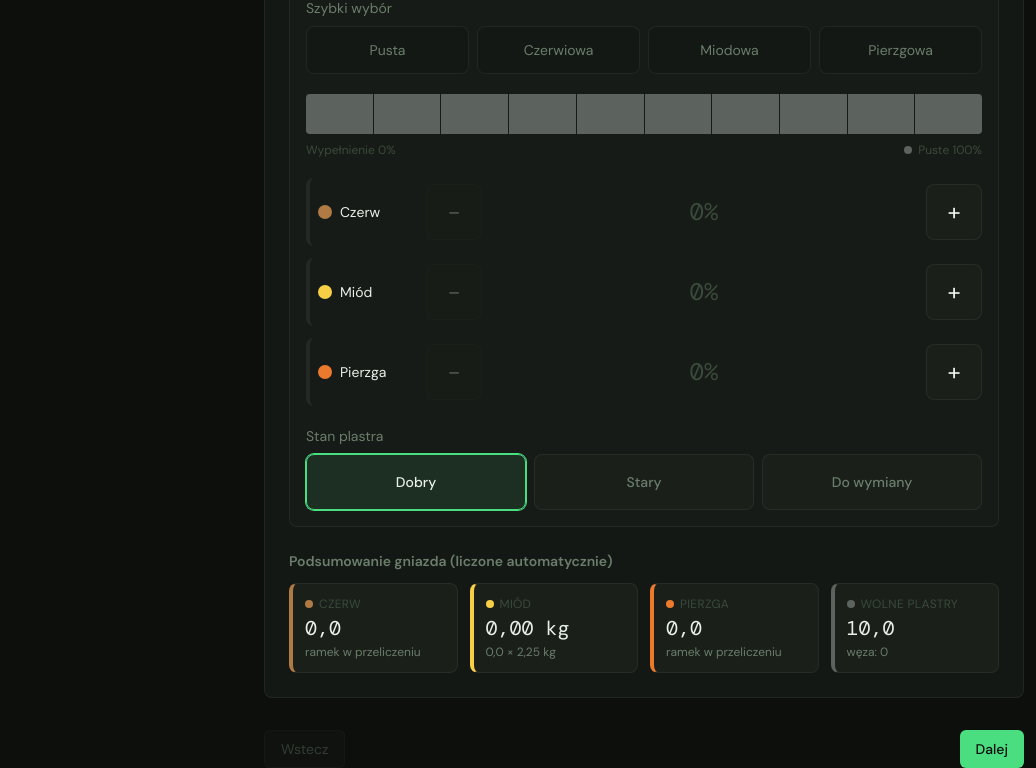
Test: leaving a step the schema rejects › says the same when Dalej is the one refusing
(page scrolled)
Click the button "Dalej" at (992, 749), box top-left (960, 730), bottom-right (1024, 767)
(page scrolled)
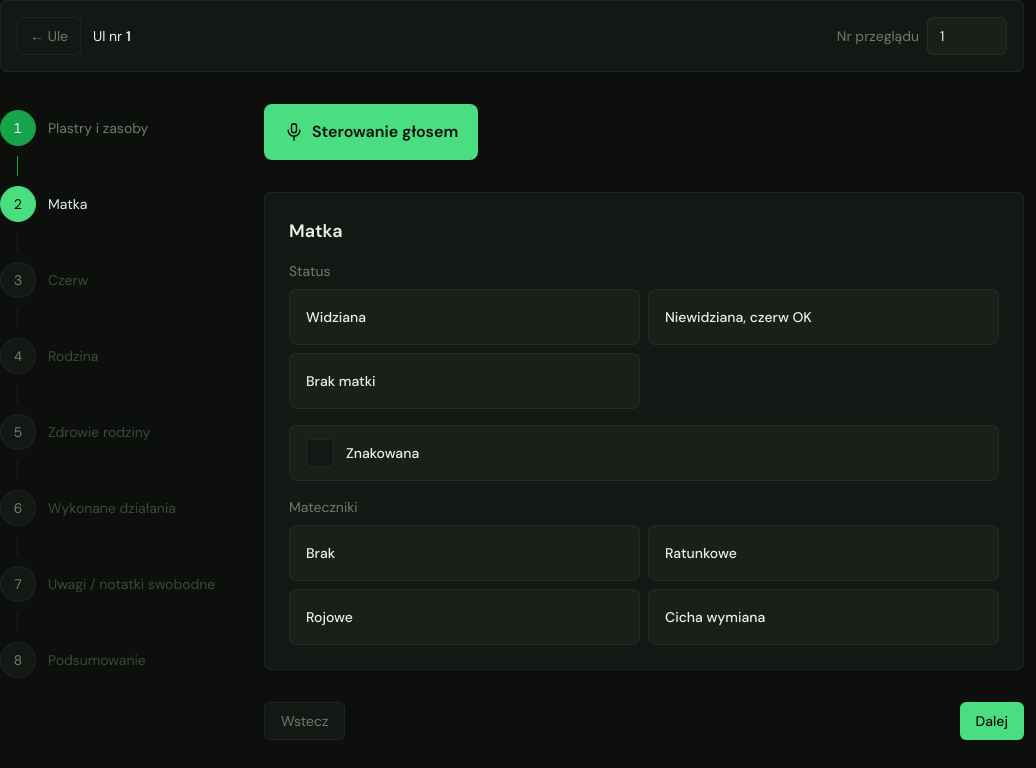
Check: the tab "2 Matka" is shown, box top-left (0, 180), bottom-right (224, 228)
Click the button "Dalej" at (992, 721), box top-left (960, 702), bottom-right (1024, 740)
(page scrolled)
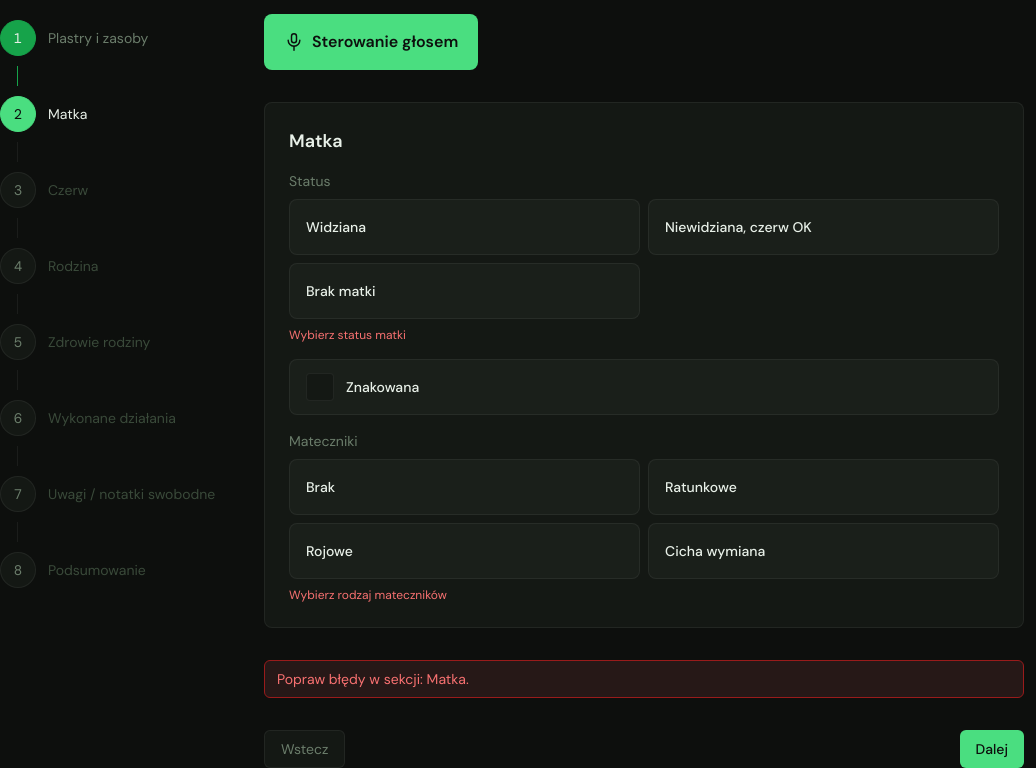
Check: the message reads "Popraw błędy w sekcji: Matka.", box top-left (277, 670), bottom-right (469, 688)
